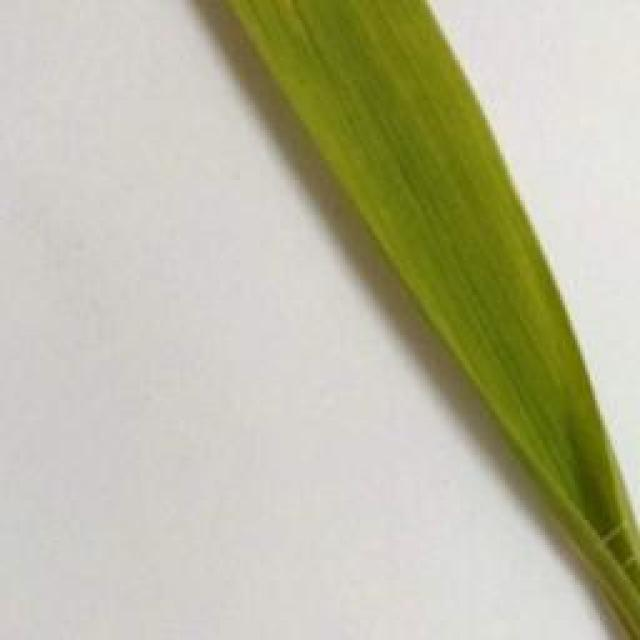Healthy-Plant: (236, 0, 640, 627)
